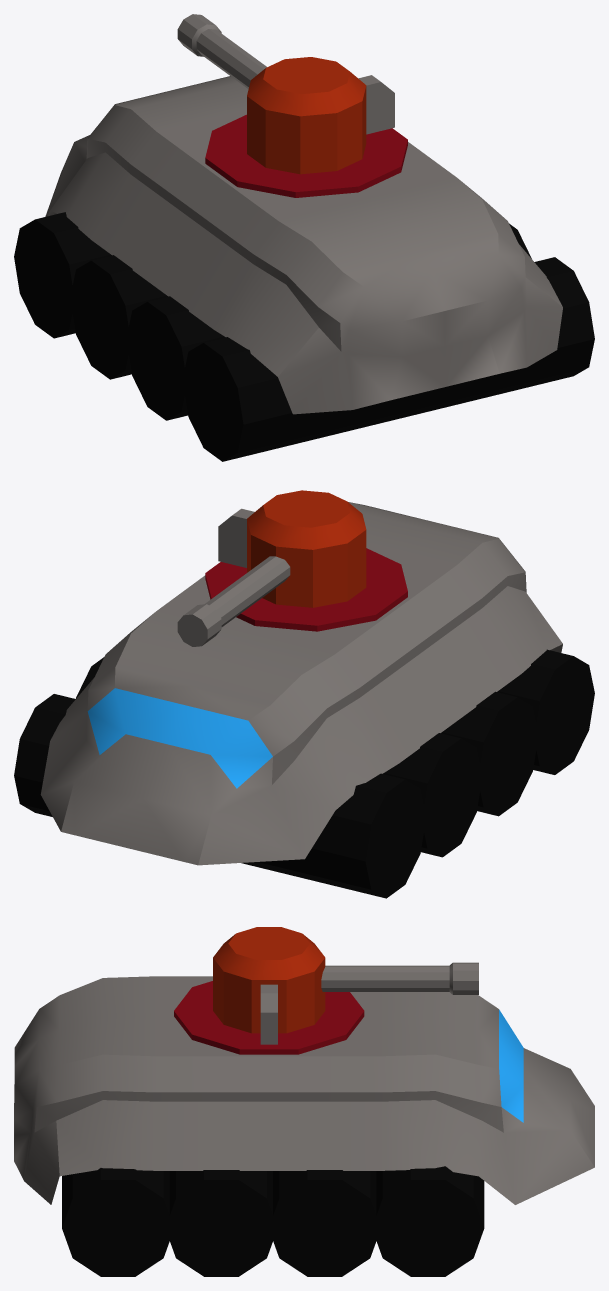
File: Vroom.fbx
The picture shows the model from 3 angles, top to bottom: view 1: azimuth 30°, elevation 25°; view 2: azimuth 150°, elevation 25°; view 3: azimuth 270°, elevation 25°; orthographic projection. The views are drawn at different scales.
Parts seen in each view (by area): view 1: Chasis, Wheeles, Turret; view 2: Chasis, Wheeles, Turret; view 3: Chasis, Wheeles, Turret.
Part boxes in pixels (left/top/right/bottom): Chasis: left=45, top=76, right=562, bottom=414; Wheeles: left=14, top=212, right=594, bottom=461; Turret: left=177, top=14, right=394, bottom=174; Chasis: left=40, top=502, right=562, bottom=865; Wheeles: left=14, top=649, right=594, bottom=898; Turret: left=177, top=490, right=366, bottom=646; Chasis: left=14, top=976, right=594, bottom=1204; Wheeles: left=62, top=1166, right=484, bottom=1276; Turret: left=213, top=927, right=478, bottom=1044.
Bounding box in the file's own units: 664 × 499 × 1034.
